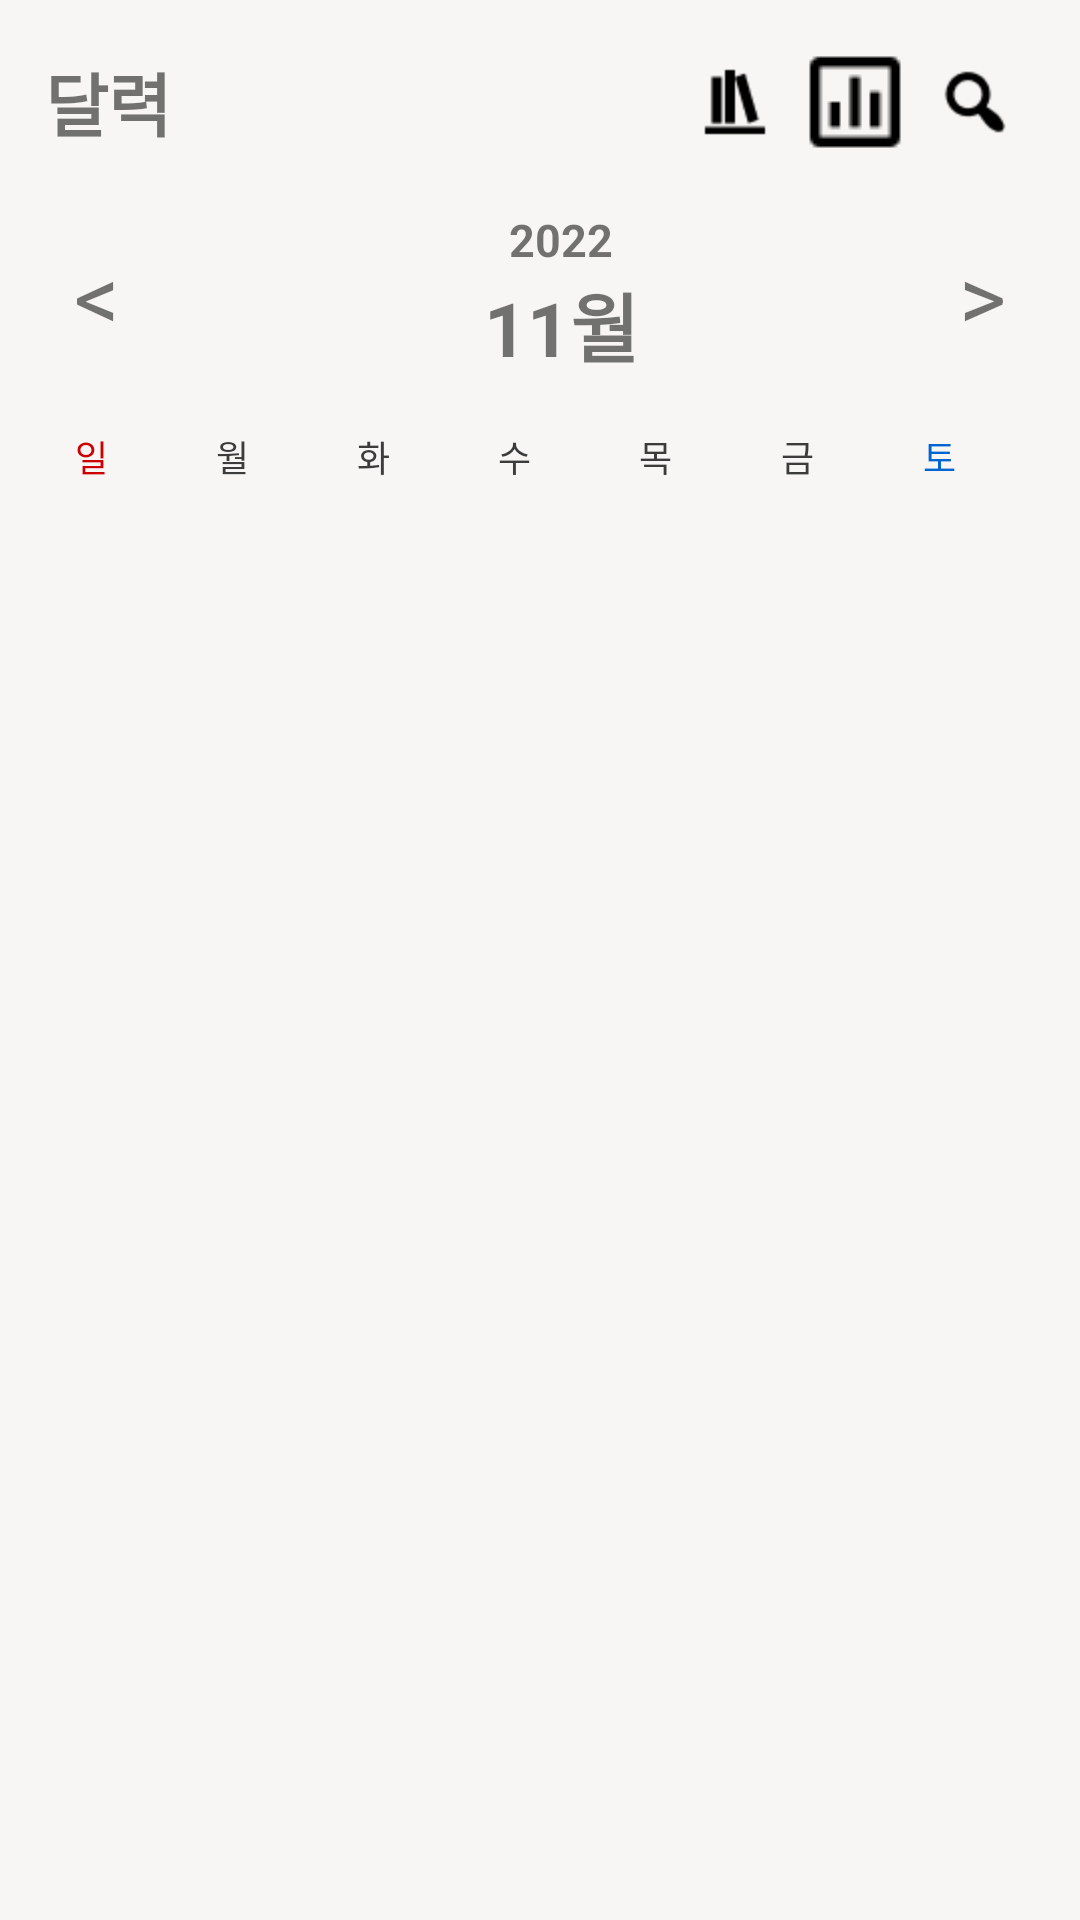

Icon click points for this 1080x1920 phone screenshot, format (x=x, y=y):
albums: (x=735, y=102)
chart: (x=855, y=102)
search: (x=975, y=102)
